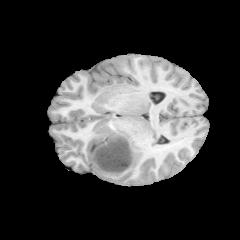glioma: (87, 116, 144, 179)
